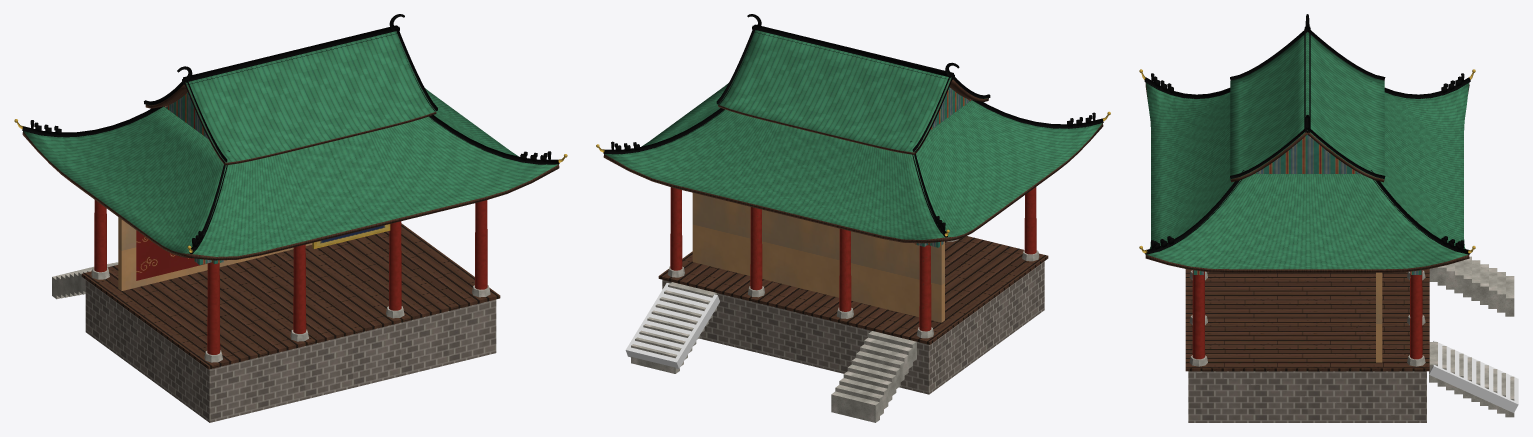
File: opera_stage.glb
3 renders of one model, left to right at view 1: azimuth 30°, elevation 25°; view 2: azimuth 150°, elevation 25°; view 3: azimuth 270°, elevation 25°, orthographic. The views are drawn at different scales.
Parts seen in each view (by area): view 1: StageLowerRoof, StageFloor, StageBase, StageGable, StageColumns, StageGableRidge, BackScreen, StageLowerRoofRidges, ScreenSilk, StageSteps, StageBases, StageGableFace (+1 smaller); view 2: StageLowerRoof, StageGable, BackScreen, StageBase, StageFloor, StageColumns, StageSteps, StageRamp-convcolonly.001, StageSteps.001, StageGableRidge, StageLowerRoofRidges, StageBases (+2 smaller); view 3: StageLowerRoof, StageFloor, StageGable, StageBase, StageSteps, StageRamp-convcolonly.001, StageColumns, StageLowerRoofRidges, StageGableFace, StageSteps.001, StageGableRidge, StageRidgeBeasts (+2 smaller).
Part boxes in pixels (x1,y1,x2,y2): StageLowerRoof: [22, 88, 559, 260]; StageFloor: [81, 223, 500, 369]; StageBase: [85, 280, 496, 422]; StageGable: [145, 31, 436, 165]; StageColumns: [94, 200, 487, 354]; StageGableRidge: [144, 14, 437, 162]; BackScreen: [118, 217, 312, 290]; StageLowerRoofRidges: [22, 106, 559, 253]; ScreenSilk: [136, 230, 207, 280]; StageSteps: [52, 262, 118, 299]; StageBases: [91, 267, 490, 362]; StageGableFace: [166, 92, 208, 138]; StageLowerRoof: [603, 83, 1103, 243]; StageGable: [718, 30, 988, 154]; BackScreen: [692, 193, 944, 322]; StageBase: [662, 261, 1044, 394]; StageFloor: [658, 236, 1048, 344]; StageColumns: [670, 187, 1036, 331]; StageSteps: [831, 331, 916, 422]; StageRamp-convcolonly.001: [625, 283, 719, 368]; StageSteps.001: [631, 282, 716, 373]; StageGableRidge: [716, 14, 990, 152]; StageLowerRoofRidges: [603, 100, 1103, 237]; StageBases: [667, 239, 1039, 338]; StageLowerRoof: [1145, 83, 1469, 272]; StageFloor: [1185, 269, 1429, 371]; StageGable: [1230, 32, 1384, 182]; StageBase: [1188, 371, 1426, 422]; StageSteps: [1429, 256, 1514, 316]; StageRamp-convcolonly.001: [1429, 340, 1518, 412]; StageColumns: [1192, 270, 1422, 359]; StageLowerRoofRidges: [1144, 77, 1470, 254]; StageGableFace: [1254, 134, 1360, 173]; StageSteps.001: [1429, 342, 1514, 417]; StageGableRidge: [1230, 14, 1385, 179]; StageRidgeBeasts: [1151, 73, 1464, 249].
Size of what is drawn, in the model's own units: 15.88 by 12.08 by 14.3.
12 materials, 12 textured.
